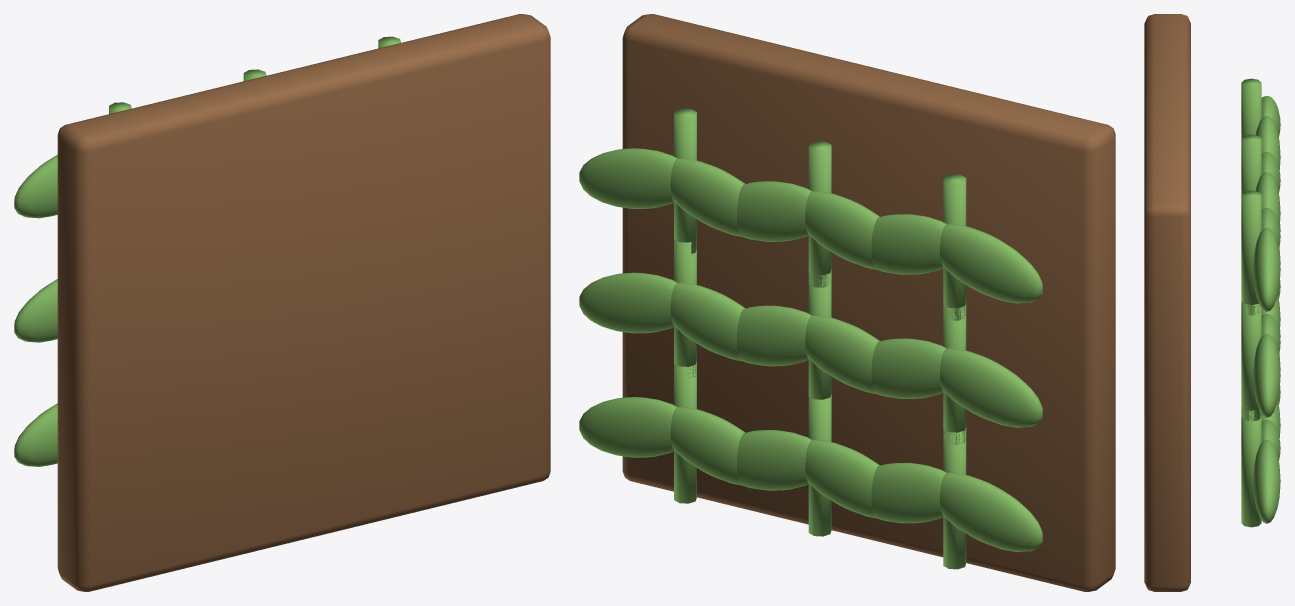
Rendered from tomato_small.glb.
3 renders of one model, left to right at view 1: azimuth 30°, elevation 25°; view 2: azimuth 150°, elevation 25°; view 3: azimuth 270°, elevation 25°, orthographic. The views are drawn at different scales.
Parts seen in each view (by area): view 1: Soil, Leaf.002, Leaf.004, Leaf; view 2: Soil, Leaf.004, Leaf, Leaf.002, Leaf.015, Leaf.013, Leaf.017, Leaf.005, Leaf.009, Leaf.001, Leaf.007, Leaf.003 (+16 smaller); view 3: Soil, Stem.008, Stem.007, Stem.006, Leaf.013, Leaf.017, Leaf.015, Stem.002, Stem.005, Leaf.005, Leaf.011, Leaf.004 (+6 smaller).
Part boxes in pixels (x1,y1,x2,y2): Soil: [57, 14, 550, 591]; Leaf.002: [14, 279, 57, 342]; Leaf.004: [14, 154, 57, 218]; Leaf: [14, 403, 57, 466]; Soil: [622, 14, 1115, 591]; Leaf.004: [940, 224, 1042, 303]; Leaf: [940, 472, 1042, 552]; Leaf.002: [940, 348, 1042, 427]; Leaf.015: [579, 272, 677, 333]; Leaf.013: [579, 397, 677, 457]; Leaf.017: [579, 148, 677, 208]; Leaf.005: [871, 214, 946, 274]; Leaf.009: [736, 305, 812, 366]; Leaf.001: [871, 462, 946, 523]; Leaf.007: [736, 430, 812, 490]; Leaf.003: [871, 338, 946, 398]; Soil: [1144, 14, 1190, 591]; Stem.008: [1241, 190, 1261, 315]; Stem.007: [1241, 301, 1261, 421]; Stem.006: [1241, 407, 1261, 527]; Leaf.013: [1253, 440, 1280, 523]; Leaf.017: [1253, 228, 1280, 311]; Leaf.015: [1253, 334, 1280, 417]; Stem.002: [1241, 78, 1261, 138]; Stem.005: [1241, 134, 1261, 194]; Leaf.005: [1255, 116, 1280, 170]; Leaf.011: [1255, 172, 1280, 225]; Leaf.004: [1261, 96, 1280, 137].
Bounding box in the file's own units: 1.2 × 1.1 × 0.3496.
